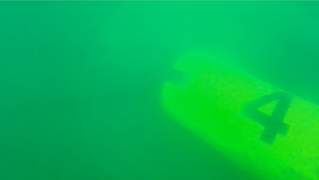4: (242, 90, 294, 145)
pipe: (160, 51, 319, 180)
